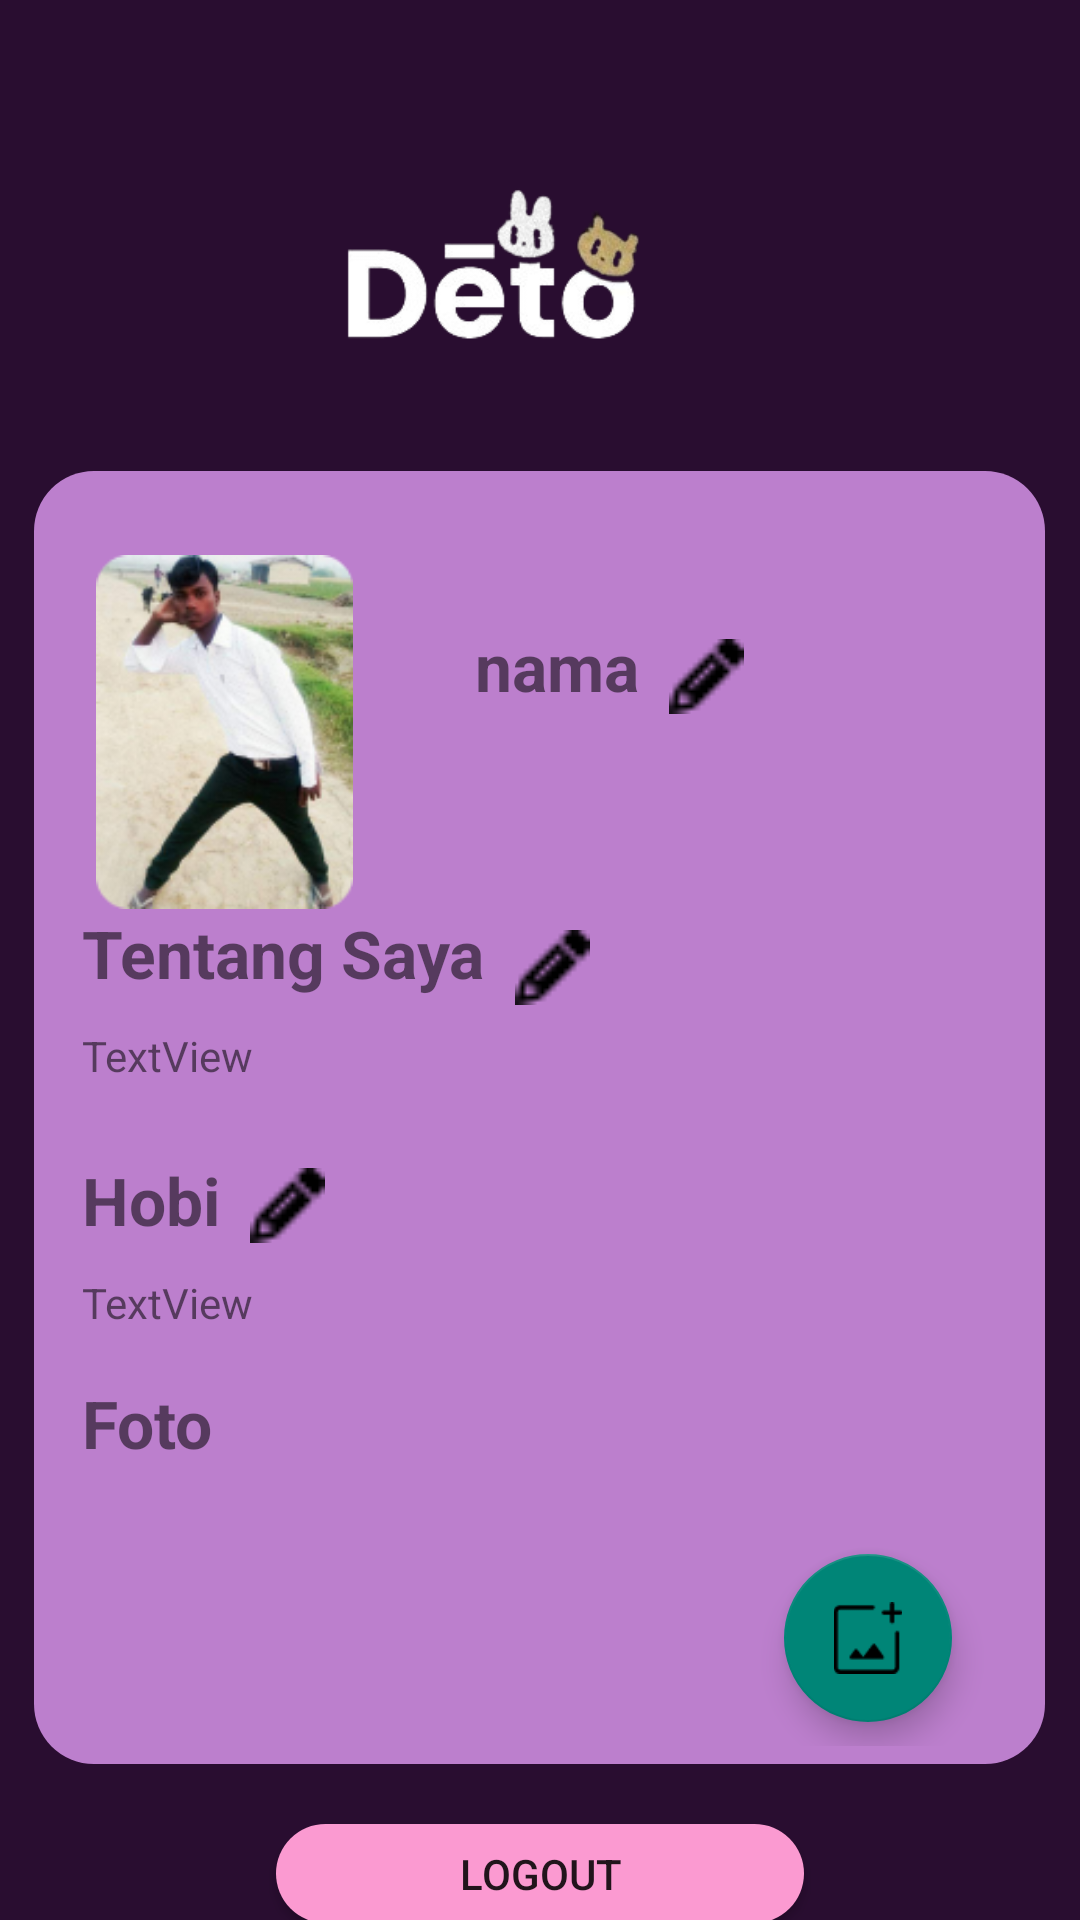

Icons on this 1080 x 1920 Android screen, each with the point to tap as (x=x, y=y):
btnimg: (x=868, y=1638)
pencil: (x=706, y=676), (x=552, y=967), (x=287, y=1205)
